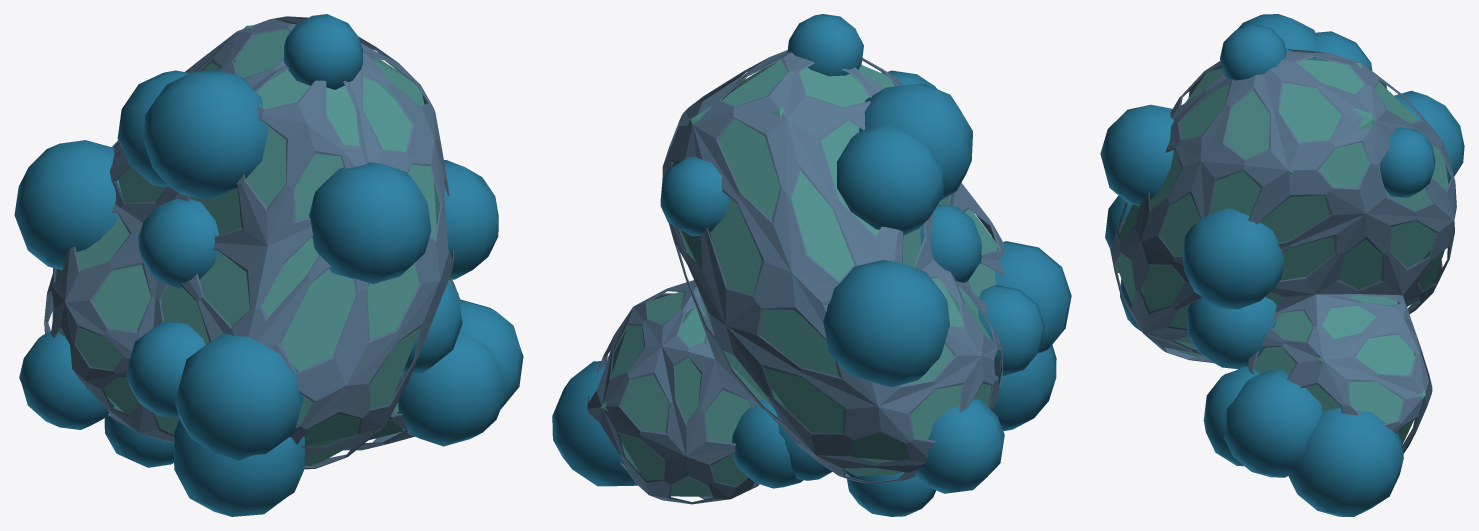
File: glueBush2.fbx
3 renders of one model, left to right at view 1: azimuth 30°, elevation 25°; view 2: azimuth 150°, elevation 25°; view 3: azimuth 270°, elevation 25°, orthographic. The views are drawn at different scales.
Visible parts, largest first — view 1: Mball.007; view 2: Mball.007; view 3: Mball.007.
Part boxes in pixels (<box>): Mball.007: <box>14,14,523,516</box>; Mball.007: <box>552,14,1071,516</box>; Mball.007: <box>1100,14,1464,516</box>.
Bounding box in the file's own units: 277 × 282 × 224.
